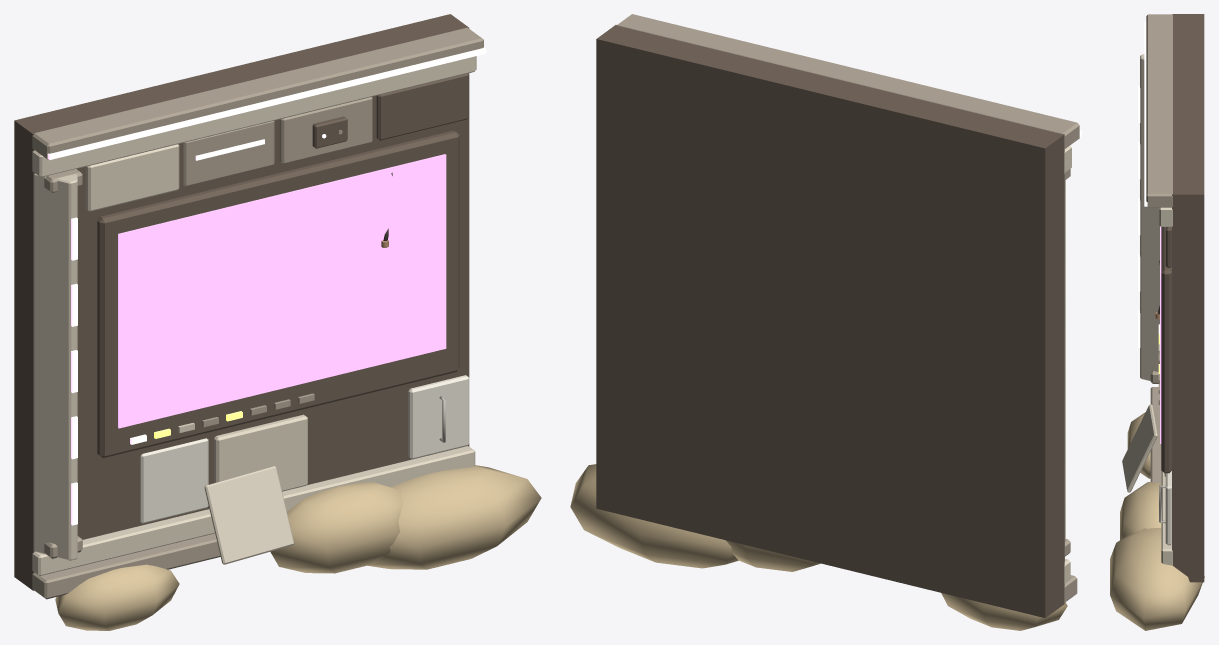
The model's file is wall_du_bigscreen2.glb.
3 renders of one model, left to right at view 1: azimuth 30°, elevation 25°; view 2: azimuth 150°, elevation 25°; view 3: azimuth 270°, elevation 25°, orthographic. The views are drawn at different scales.
Parts seen in each view (by area): view 1: wall_du_bigscreen2; view 2: wall_du_bigscreen2; view 3: wall_du_bigscreen2.
Part boxes in pixels (x1,y1,x2,y2): wall_du_bigscreen2: (14, 14, 541, 630); wall_du_bigscreen2: (570, 14, 1081, 630); wall_du_bigscreen2: (1110, 14, 1204, 630).
Bounding box in the file's own units: 4.51 × 4.51 × 0.887.
